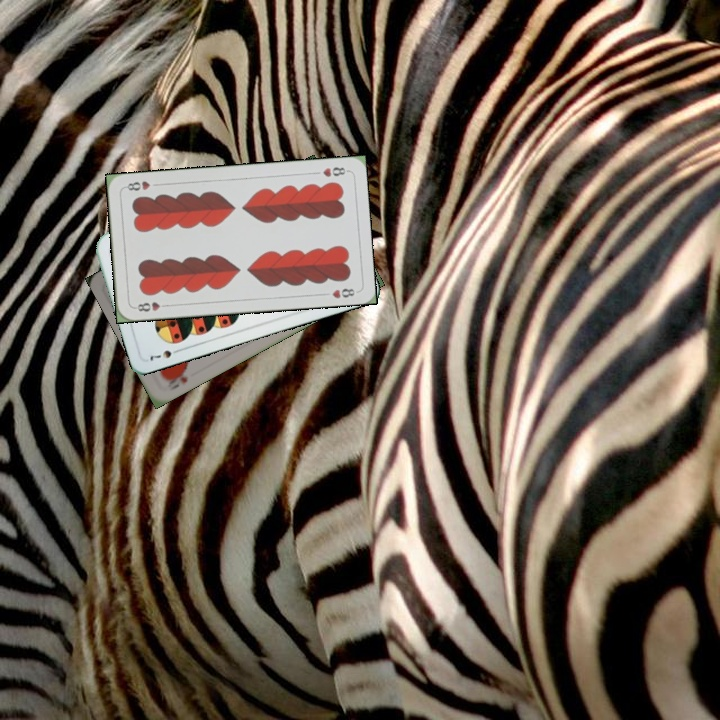H8: (131, 298, 171, 314), (319, 163, 350, 180)
HO: (162, 364, 191, 393)
S7: (146, 345, 184, 363)
